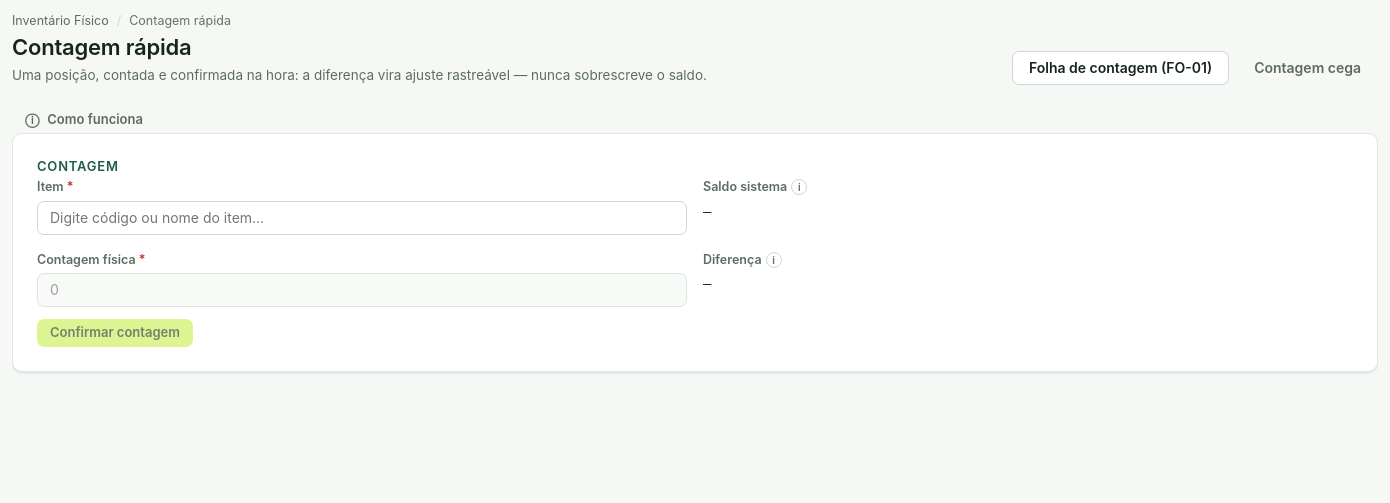
Scenario: Contagem rápida — item inativo elegível › inativo sem saldo: a prévia não traz posição, e a tela diz por quê
Type "Cafeína" into the dropdown with id "count-item" at (362, 218), box left=37, top=201, right=687, bottom=235
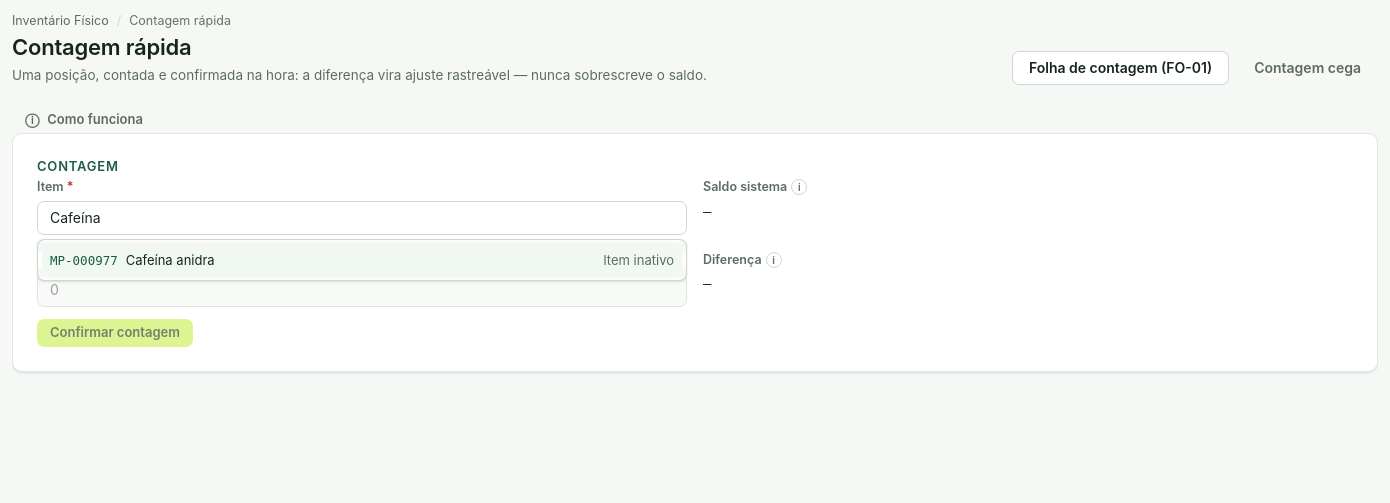
Now the option "MP-000977 Cafeína anidra Item inativo" is shown
Press the mouse on the option "MP-000977 Cafeína anidra Item inativo" at (84, 260), box left=42, top=244, right=682, bottom=276
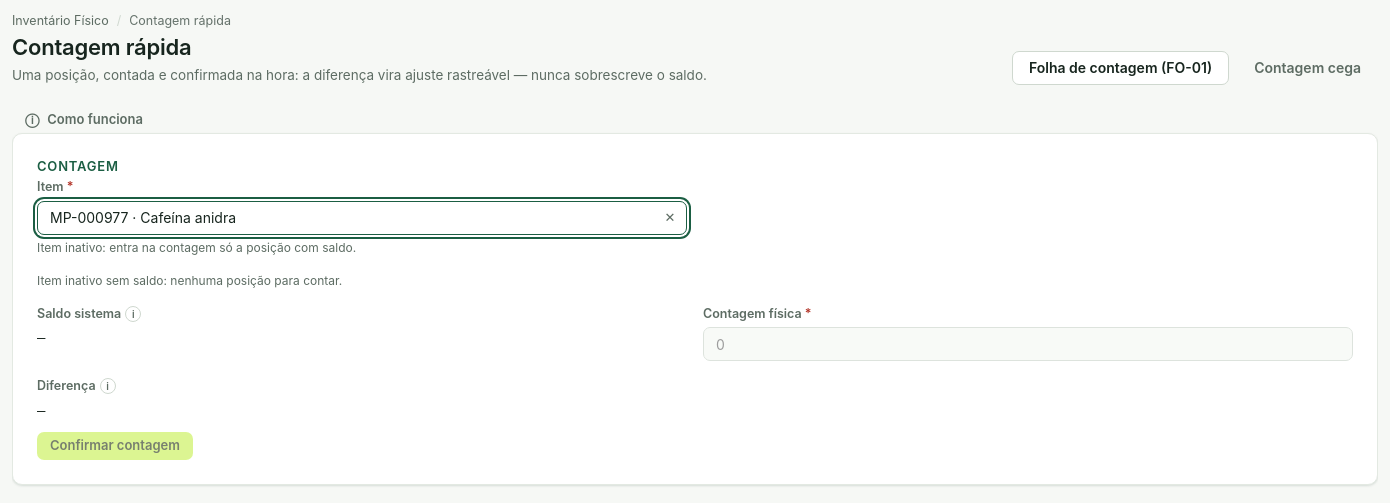
Expected: the button "Confirmar contagem" is disabled, left=37, top=432, right=193, bottom=460
Now the text "Item inativo sem saldo: nenhuma posição para contar." is shown, box left=37, top=273, right=342, bottom=288
